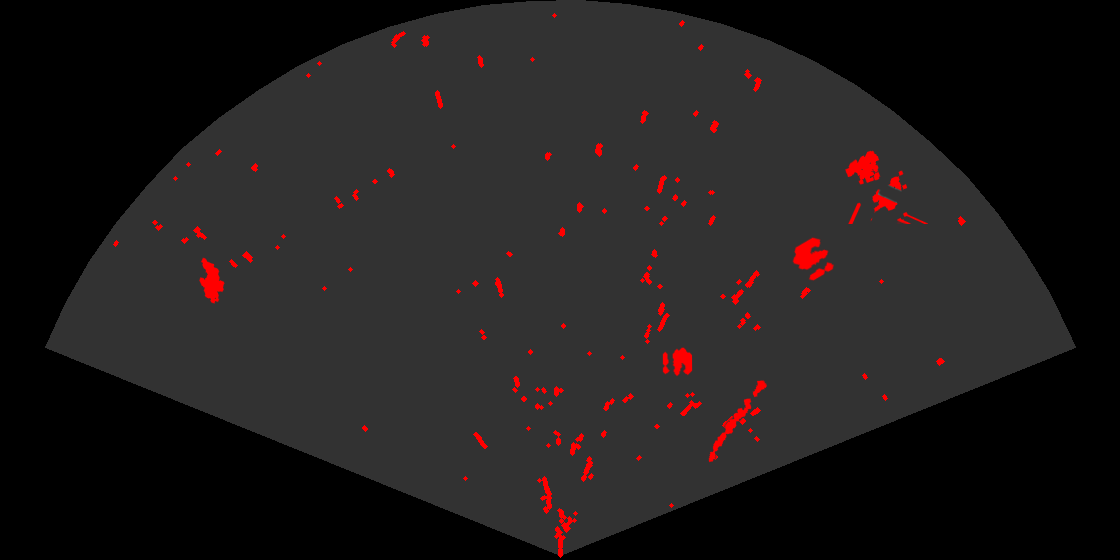AUV: (198, 256, 226, 305)
ball: (791, 236, 836, 282), (661, 346, 694, 378)
cage: (844, 149, 928, 224)
chain: (707, 379, 769, 464)
